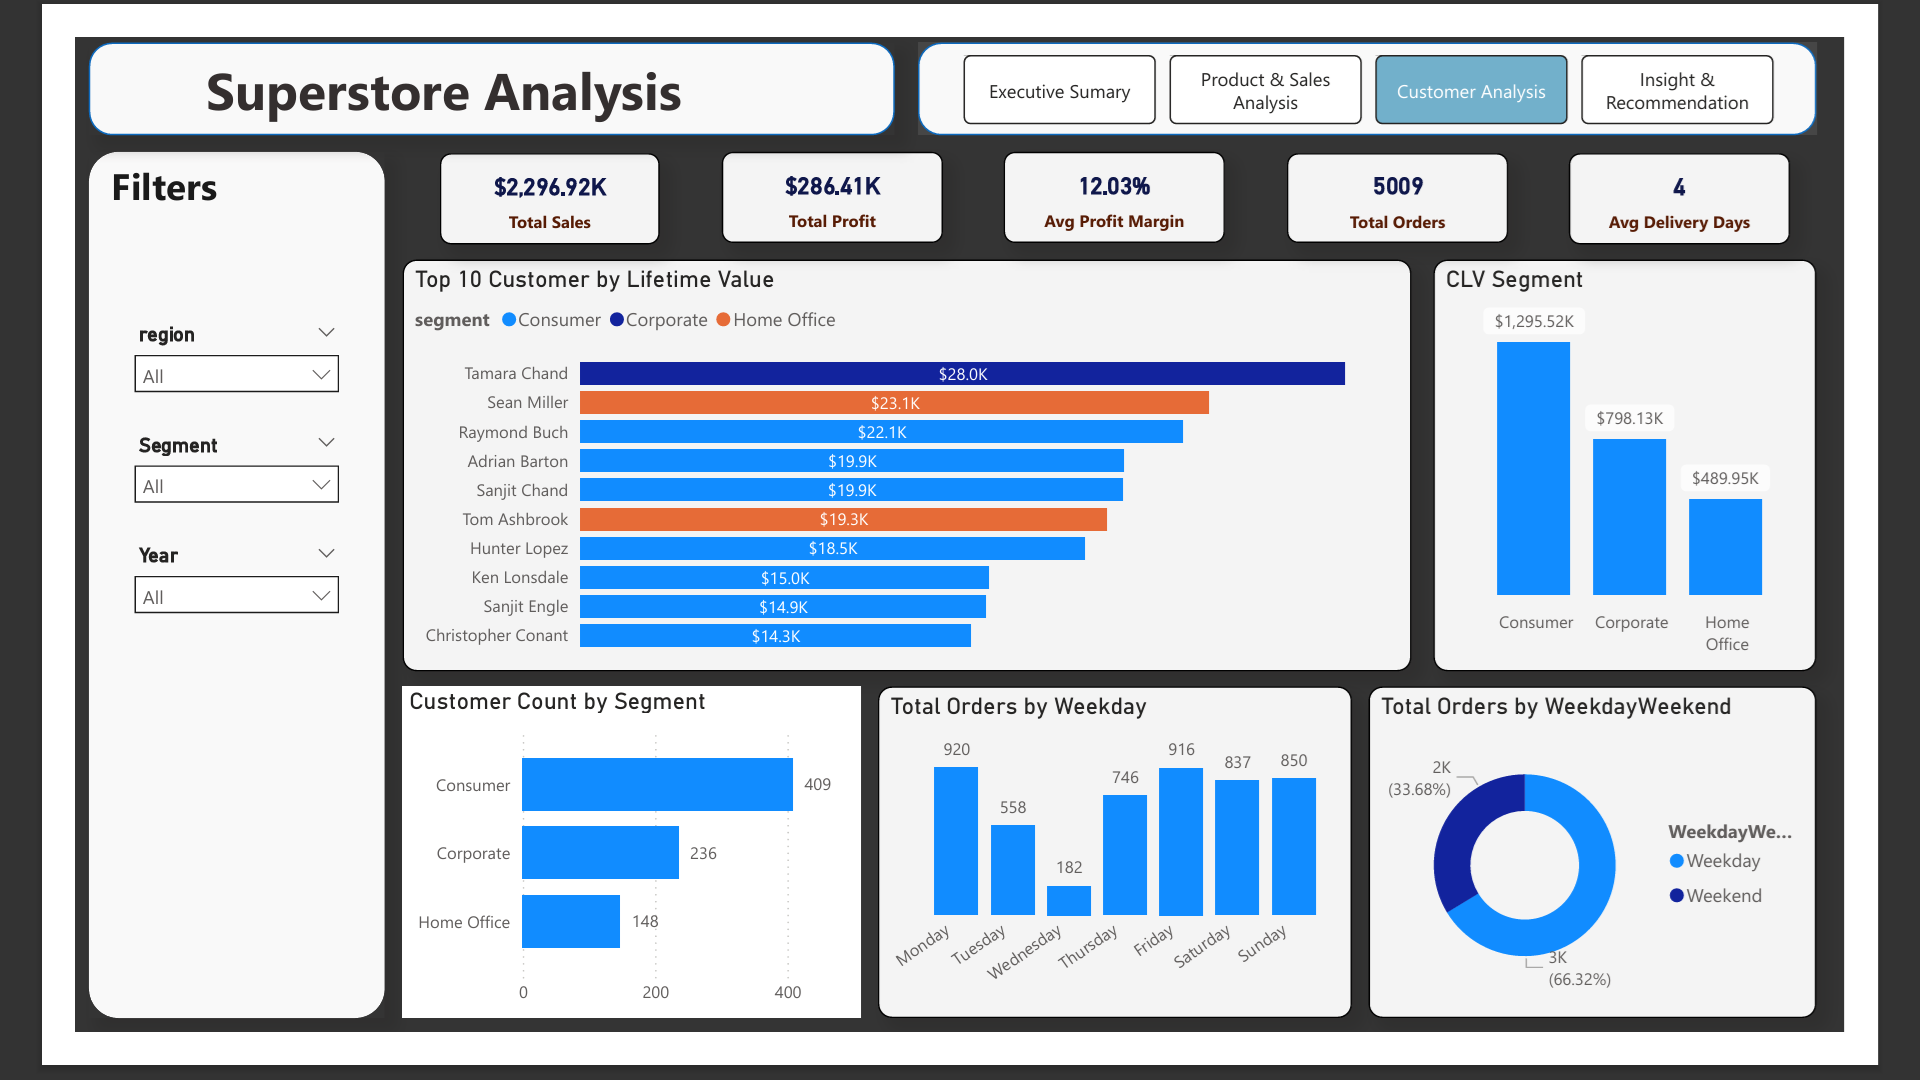

Layout of this report page (visuals, bound fields, positions):
{"tool":"powerbi","page":{"name":"Customer Analysis","canvas":[1280,720],"ordinal":2},"visuals":[{"type":"shape","box":[10,82.9,214.3,627.1],"z":0},{"type":"barChart","title":"Top 10 Customer by Lifetime Value","fields":{"Category":["public dim_customer.customer_name"],"Y":["public dim_customer.Total CLV"],"Series":["public dim_customer.segment"]},"box":[237.1,161.4,730,297.1],"z":1000},{"type":"lineStackedColumnComboChart","title":"CLV Segment","fields":{"Category":["public dim_customer.segment"],"Y":["public dim_customer.Total CLV"]},"box":[982.9,161.4,277.1,297.1],"z":2000},{"type":"clusteredColumnChart","fields":{"Category":["public dim_date.weekday"],"Y":["public fact_order.Total Orders"]},"box":[581.4,470,342.9,240],"z":3000},{"type":"donutChart","fields":{"Y":["public fact_order.Total Orders"],"Category":["public dim_date.WeekdayWeekend"]},"box":[935.7,470,324.3,240],"z":4000},{"type":"slicer","fields":{"Values":["public dim_date.order_date.Variation.Date Hierarchy.Year"]},"box":[33.5,361.6,167.1,62],"z":5000},{"type":"slicer","fields":{"Values":["public dim_customer.segment"]},"box":[33.5,281.6,167.1,62.9],"z":6000},{"type":"slicer","fields":{"Values":["public dim_location.region"]},"box":[33.5,201.6,167.1,62.9],"z":7000},{"type":"card","fields":{"Values":["public fact_order.Total Sales"]},"box":[264.3,83.9,158.6,65.7],"z":8000},{"type":"card","fields":{"Values":["public fact_order.Total Profit"]},"box":[467.5,82.8,160,65.7],"z":9000},{"type":"card","fields":{"Values":["public fact_order.Avg Profit Margin"]},"box":[672.1,83.1,160,65.7],"z":10000},{"type":"card","fields":{"Values":["public fact_order.Total Orders"]},"box":[876.8,83.5,160,65.7],"z":11000},{"type":"card","fields":{"Values":["public fact_order.Avg Delivery Days"]},"box":[1081.4,84.2,160,65.7],"z":12000},{"type":"shape","box":[10,4.3,582.9,67.1],"z":13000},{"type":"shape","box":[610,4.3,650,67.1],"z":14000},{"type":"pageNavigator","box":[642.9,12.9,585.7,50],"z":15000},{"type":"barChart","fields":{"Category":["public dim_customer.segment"],"Y":["CLV Table.Customer Count"]},"box":[237.1,470,331.4,240],"z":16000}]}

Visuals, with their boxes in screenshot pixels (x1, y1, x2, y2), scaled from the page's 1280x720 canvas onto the 1920x1080 screenshot:
shape: pyautogui.locateOnScreen(15, 124, 336, 1065)
"Top 10 Customer by Lifetime Value" barChart: pyautogui.locateOnScreen(356, 242, 1451, 688)
"CLV Segment" lineStackedColumnComboChart: pyautogui.locateOnScreen(1474, 242, 1890, 688)
clusteredColumnChart - public dim_date.weekday x public fact_order.Total Orders: pyautogui.locateOnScreen(872, 705, 1386, 1065)
donutChart - public fact_order.Total Orders x public dim_date.WeekdayWeekend: pyautogui.locateOnScreen(1404, 705, 1890, 1065)
slicer - public dim_date.order_date.Variation.Date Hierarchy.Year: pyautogui.locateOnScreen(50, 542, 301, 635)
slicer - public dim_customer.segment: pyautogui.locateOnScreen(50, 422, 301, 517)
slicer - public dim_location.region: pyautogui.locateOnScreen(50, 302, 301, 397)
card - public fact_order.Total Sales: pyautogui.locateOnScreen(396, 126, 634, 224)
card - public fact_order.Total Profit: pyautogui.locateOnScreen(701, 124, 941, 223)
card - public fact_order.Avg Profit Margin: pyautogui.locateOnScreen(1008, 125, 1248, 223)
card - public fact_order.Total Orders: pyautogui.locateOnScreen(1315, 125, 1555, 224)
card - public fact_order.Avg Delivery Days: pyautogui.locateOnScreen(1622, 126, 1862, 225)
shape: pyautogui.locateOnScreen(15, 6, 889, 107)
shape: pyautogui.locateOnScreen(915, 6, 1890, 107)
pageNavigator: pyautogui.locateOnScreen(964, 19, 1843, 94)
barChart - public dim_customer.segment x CLV Table.Customer Count: pyautogui.locateOnScreen(356, 705, 853, 1065)
